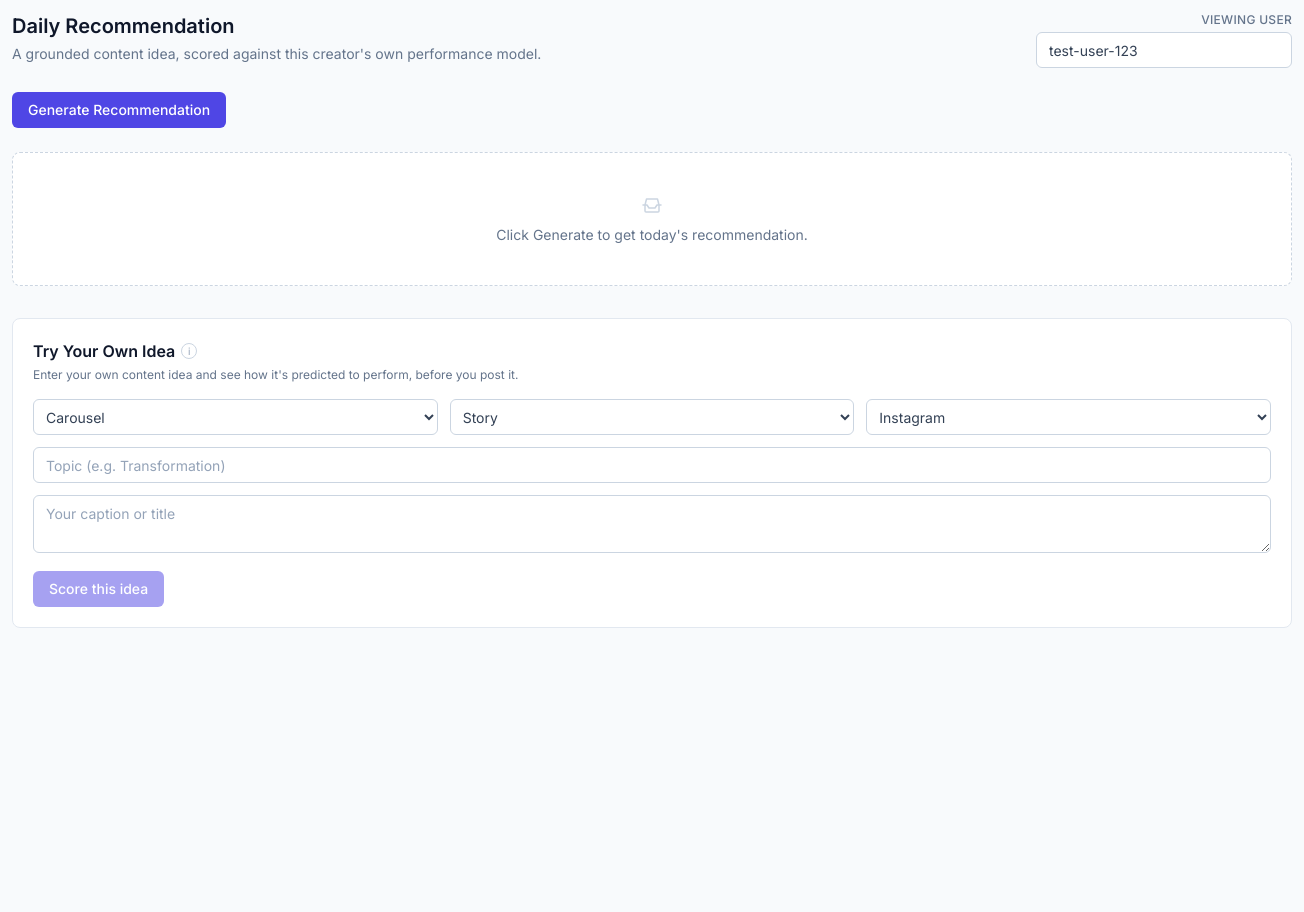
Test: generates and renders a recommendation, then marks it actioned
The image size is (1304, 912).
Step 1. Click the button "Generate Recommendation" → [119, 110], box [12,92,226,128]
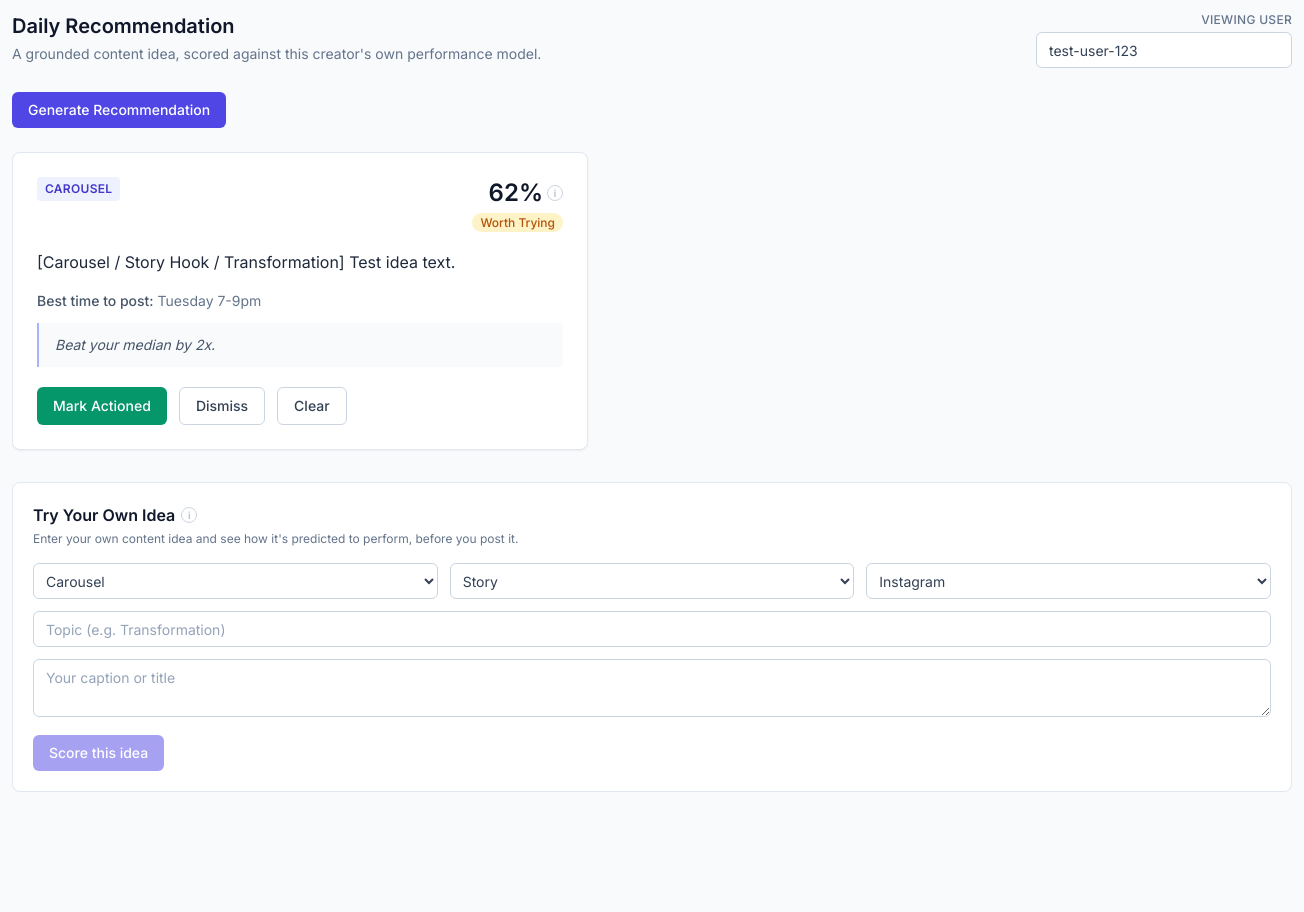
Result: the text "[Carousel / Story Hook / Transformation] Test idea text." is shown at [37,252,455,272]
Result: the text "62%" is shown at [489,177,543,209]
Step 2. Click the button "Mark Actioned" → [102, 406], box [37,387,167,425]
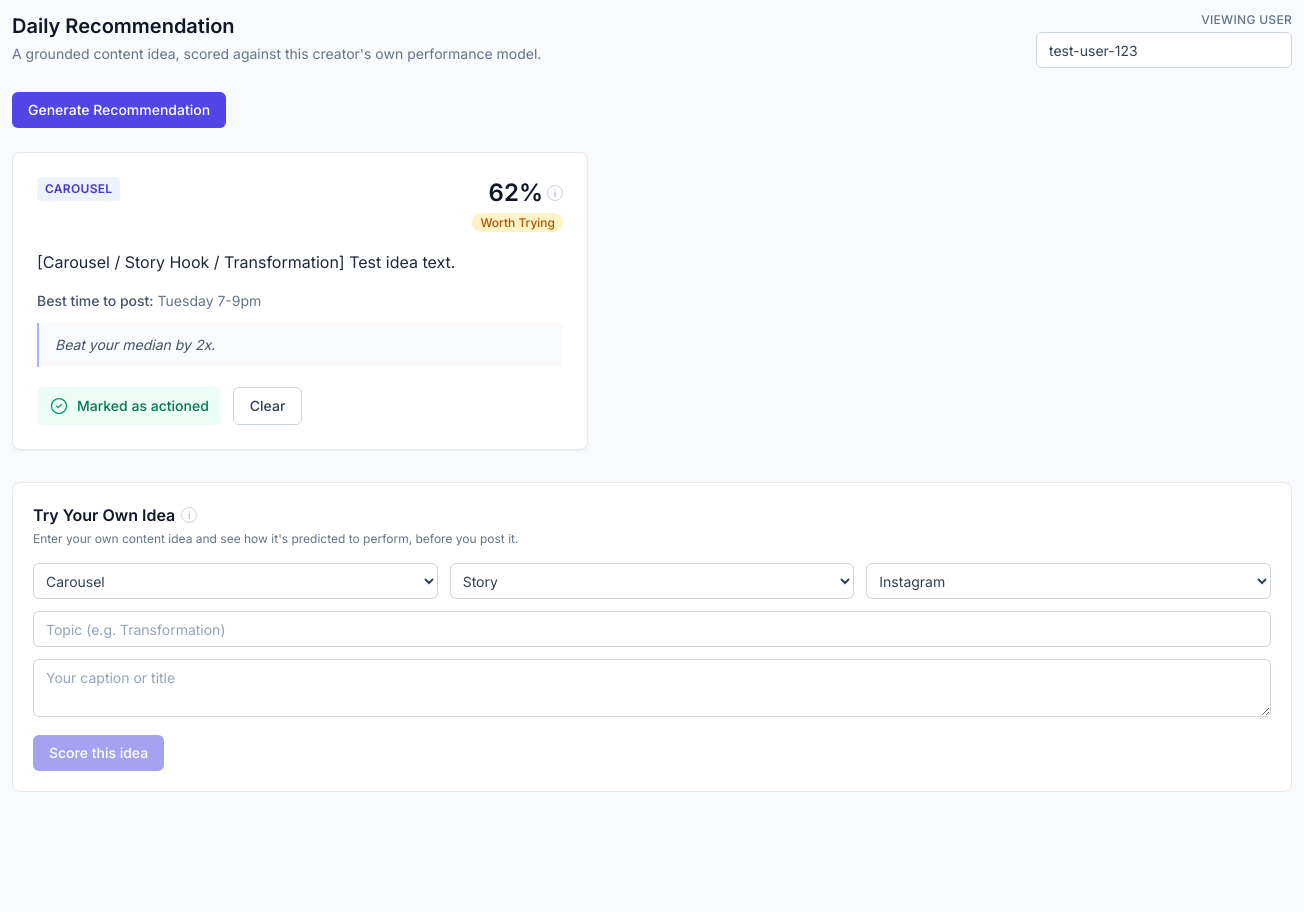
Result: the text "Marked as actioned" is shown at [37,387,221,425]
